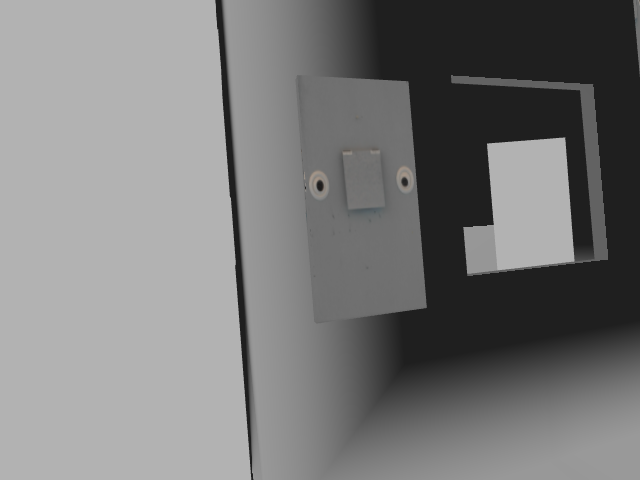facade: (306, 146, 417, 213)
